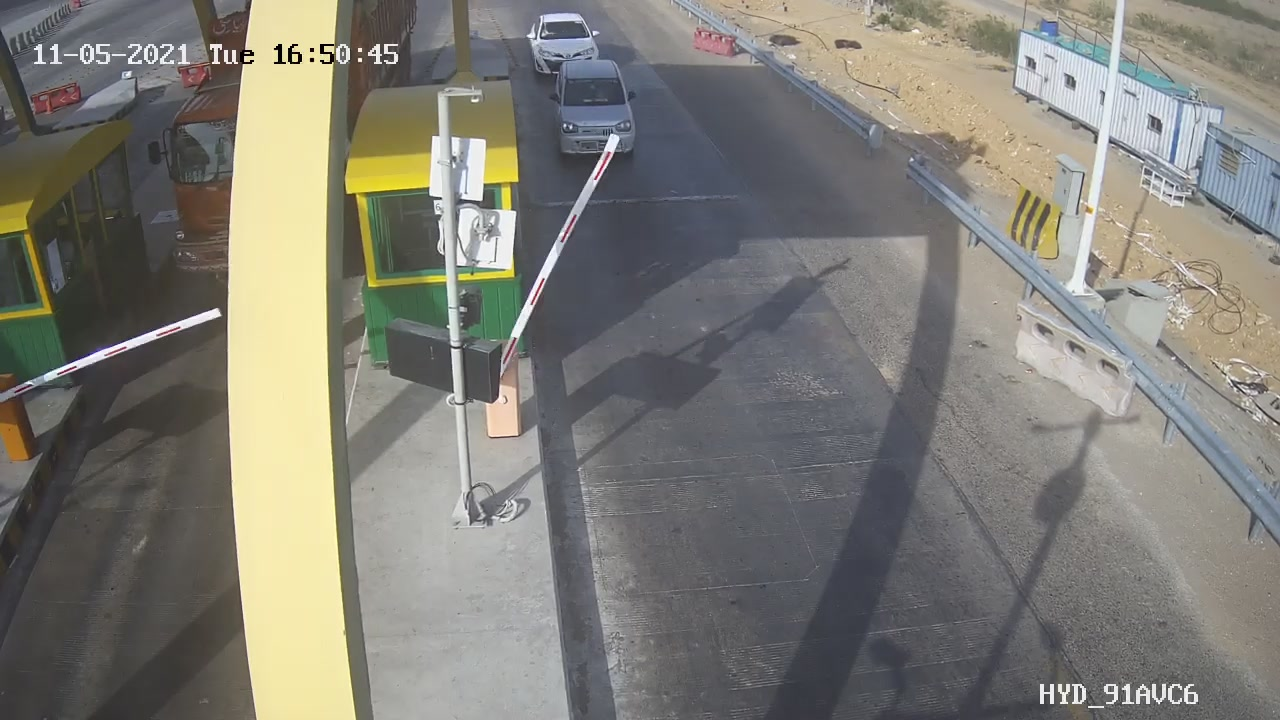F1: (533, 46, 663, 168)
